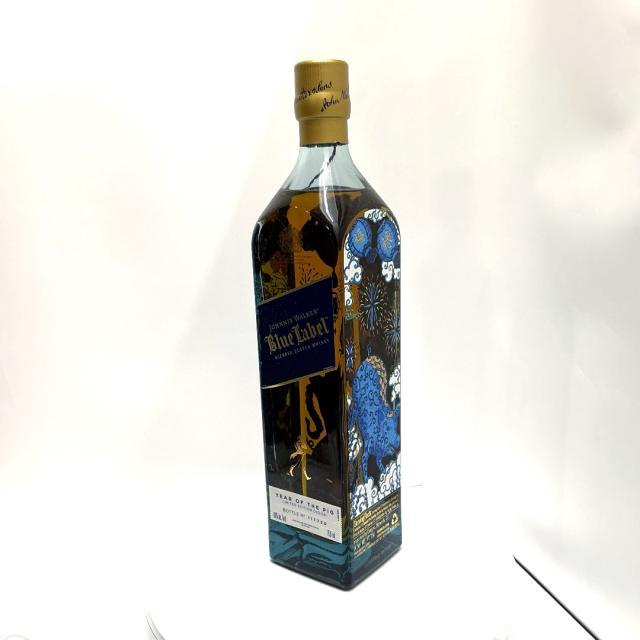JOHNNIE-WALKER-BLUE-YEAR-OF-PIG-SCOTCH-WHISKY-750ML: (248, 47, 407, 598)
